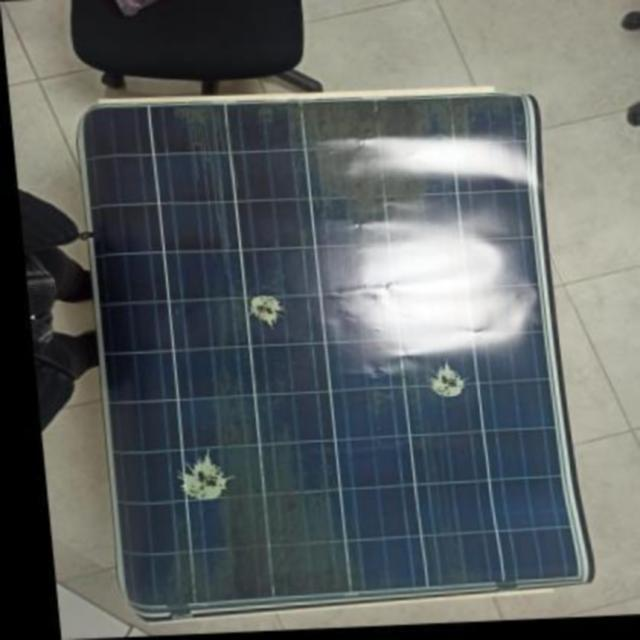soiled: (79, 92, 599, 618)
